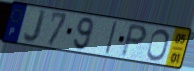7: (49, 10, 69, 48)
9: (72, 16, 95, 53)
I: (103, 21, 119, 57)
J: (22, 8, 48, 45)
O: (145, 28, 171, 63)
P: (119, 22, 149, 59)
